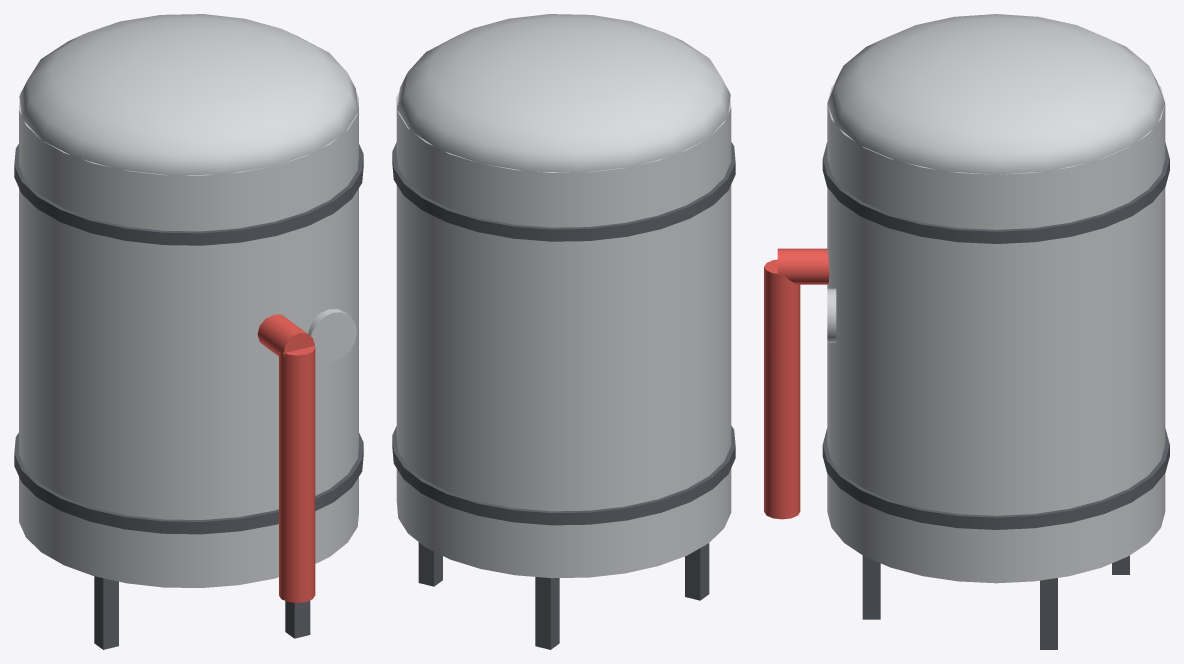
Rendered from Tanque.fbx.
The picture shows the model from 3 angles, left to right: view 1: azimuth 30°, elevation 25°; view 2: azimuth 150°, elevation 25°; view 3: azimuth 270°, elevation 25°; orthographic projection.
Parts seen in each view (by area): view 1: Cuerpo; view 2: Cuerpo; view 3: Cuerpo.
Boxes of the visible parts, bbox=[...] form: Cuerpo: bbox=[14, 14, 363, 649]; Cuerpo: bbox=[392, 14, 735, 649]; Cuerpo: bbox=[764, 14, 1169, 649].
Size of the model in its own units: 1.54 by 2.66 by 1.8.
